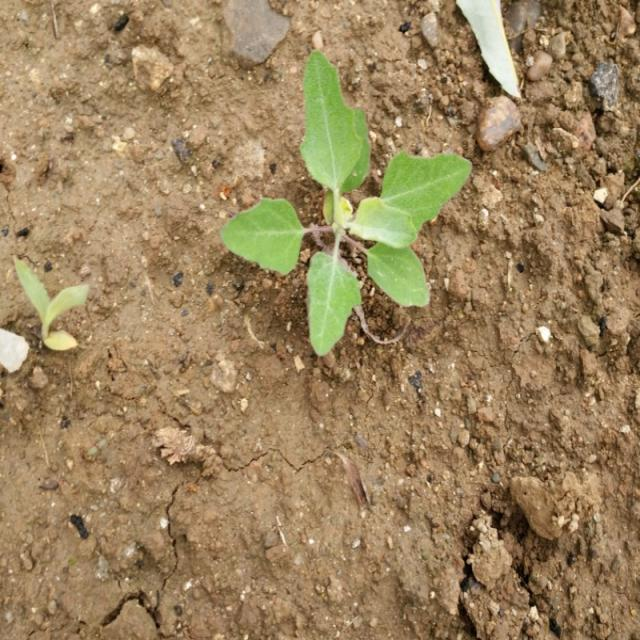ca: (221, 49, 473, 358)
